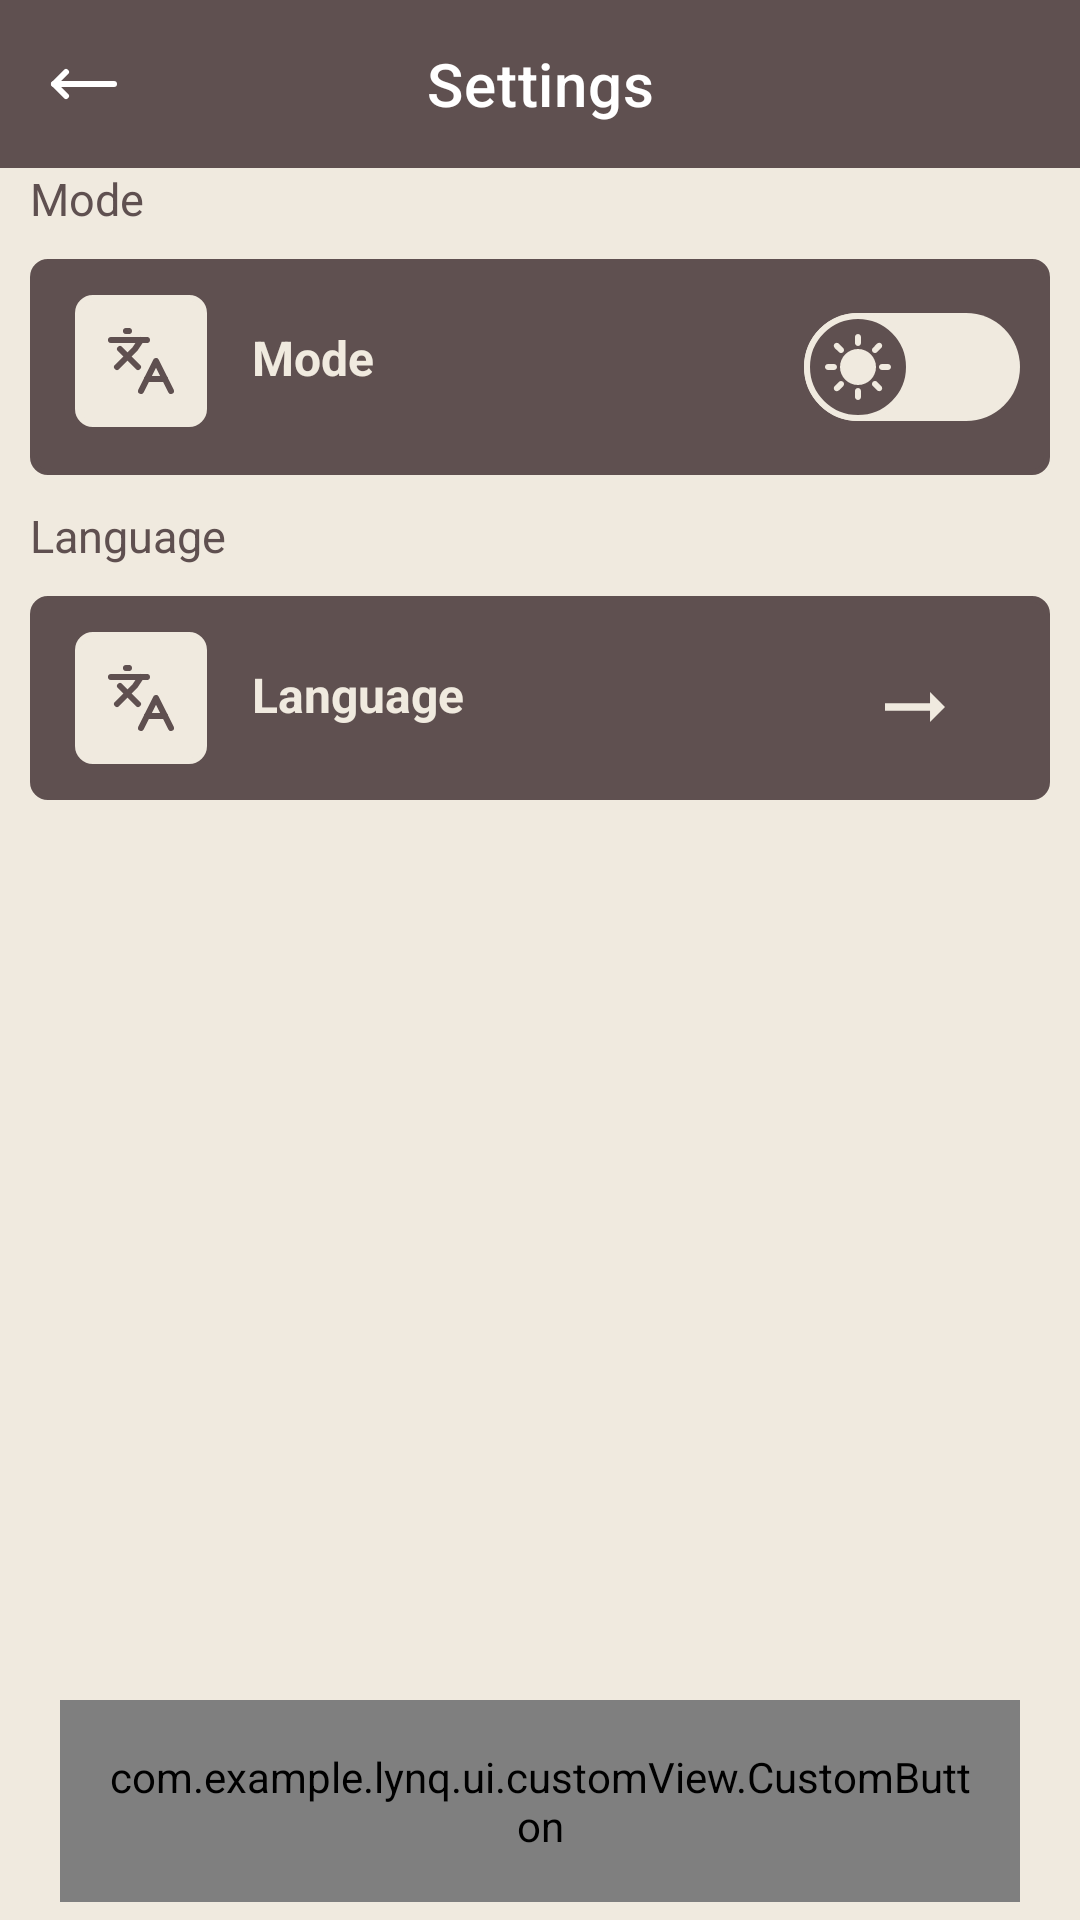

Where icons sit on this 1080 x 1920 app screen, as (x1, y1, x2, y2):
arrow: (885, 692, 945, 722)
